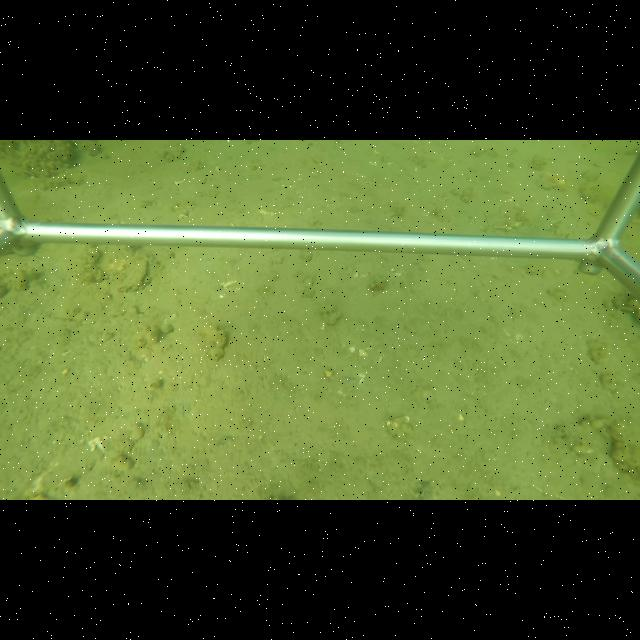Oyster-Open: (123, 256, 155, 293)
